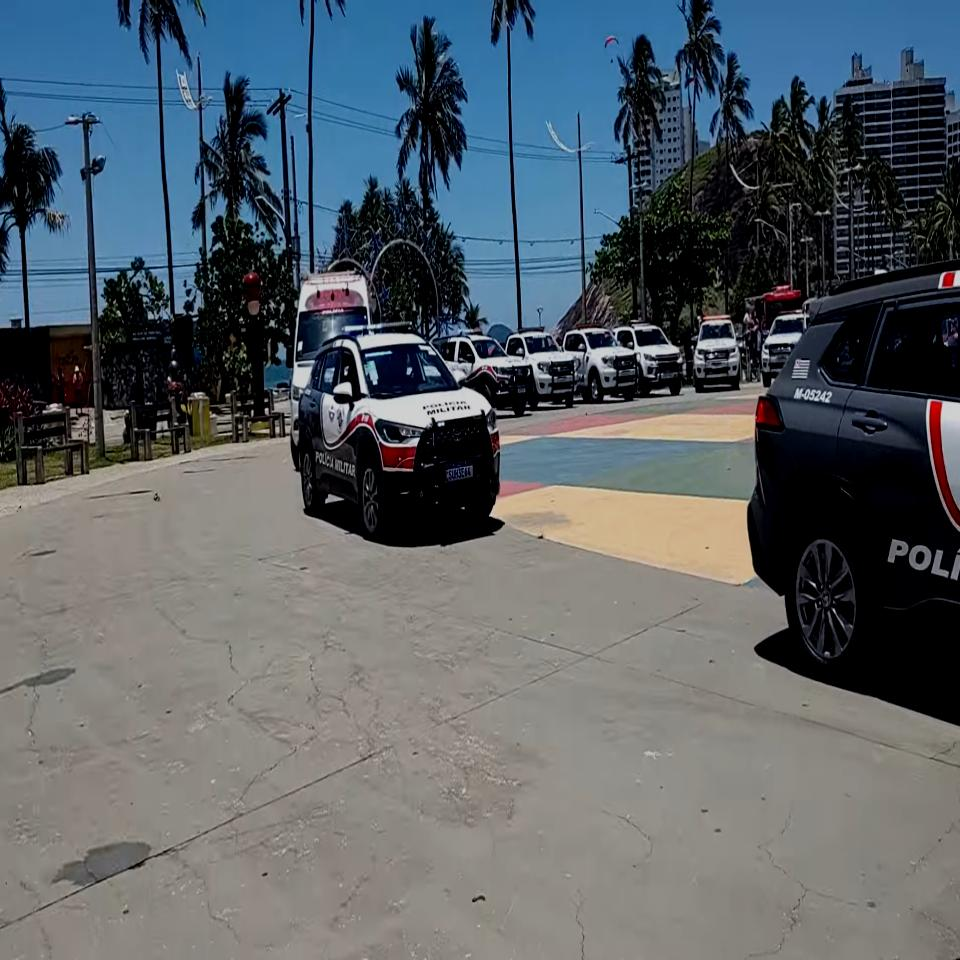viatura: (295, 314, 503, 542)
